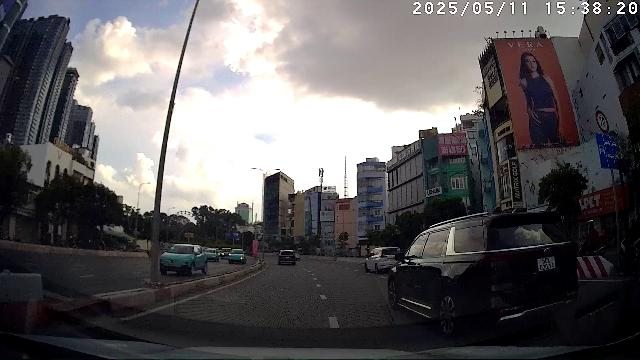127-toc-do-toi-da-70: (595, 110, 610, 134)
